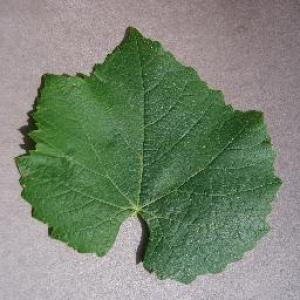Folha: (13, 24, 282, 284)
